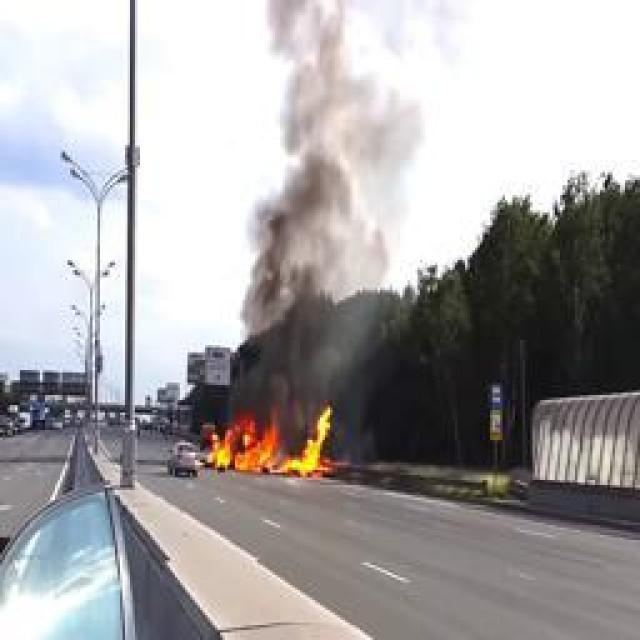Fire: (207, 408, 335, 478)
